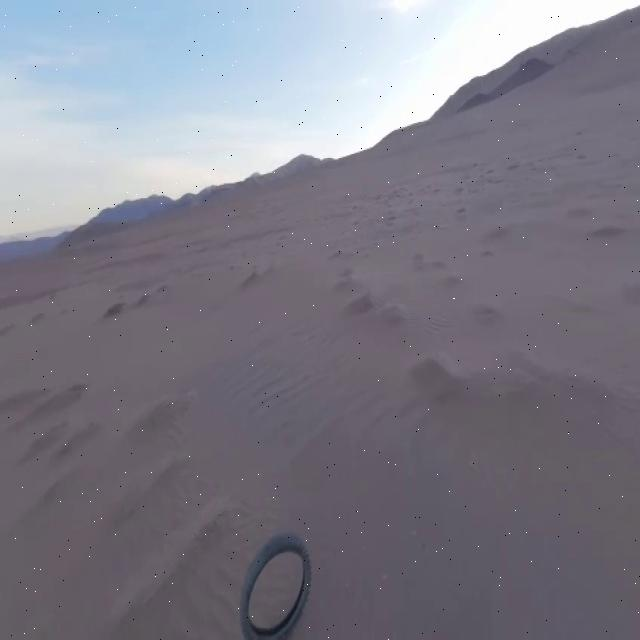Tire: (241, 536, 312, 639)
